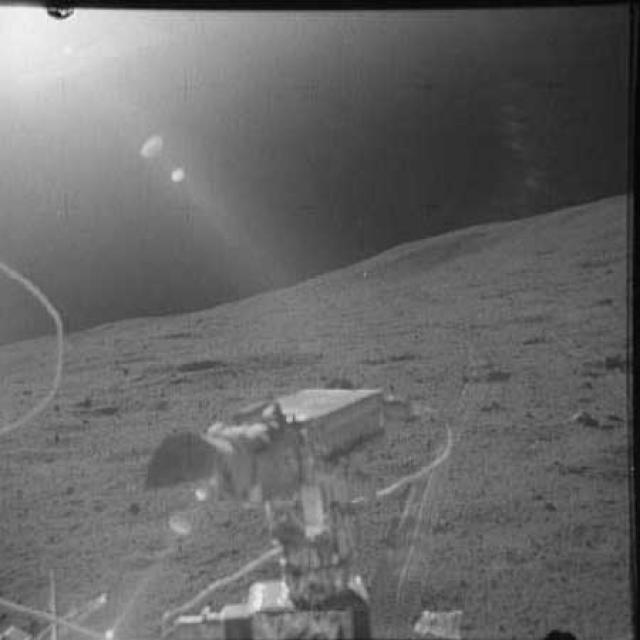crater: (353, 341, 422, 373), (167, 353, 236, 382)
rock: (564, 404, 598, 434)
